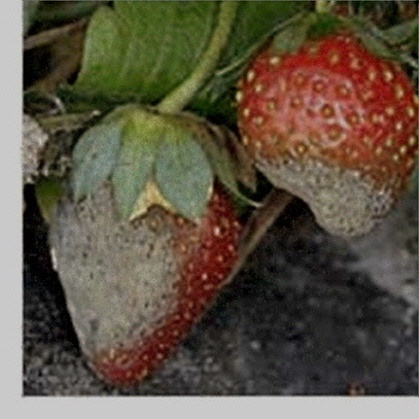Gray_Mold: (182, 172, 373, 387), (10, 136, 242, 241)
